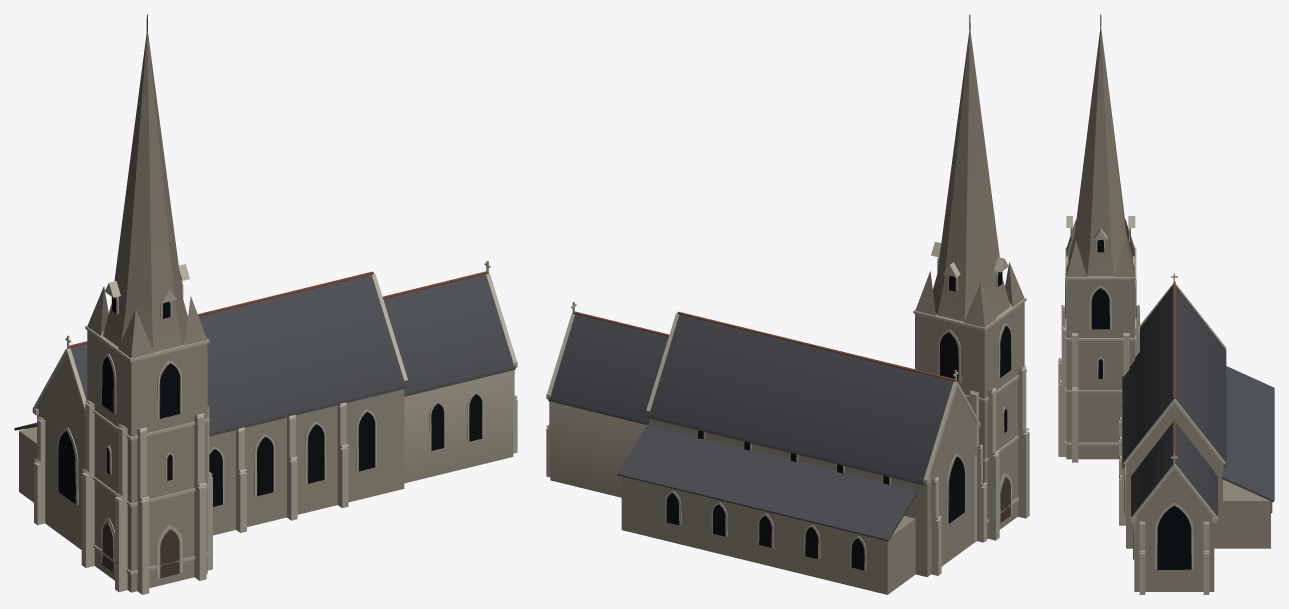
Rendered from context.church.victorian_spire.glb.
The picture shows the model from 3 angles, left to right: view 1: azimuth 30°, elevation 25°; view 2: azimuth 150°, elevation 25°; view 3: azimuth 270°, elevation 25°; orthographic projection. The views are drawn at different scales.
Parts seen in each view (by area): view 1: main__stone_987, main__clad_455, main__stone_ba9, main__clad_877, main__glass_dark, main__timber_543, main__clad_743, main__stone_887; view 2: main__clad_455, main__stone_987, main__clad_877, main__stone_ba9, main__glass_dark, main__clad_743; view 3: main__clad_455, main__stone_987, main__clad_877, main__stone_ba9, main__glass_dark, main__clad_743.
Boxes of the visible parts, left/top/right/bottom form: main__stone_987: left=19, top=330, right=513, bottom=592; main__clad_455: left=14, top=274, right=515, bottom=436; main__stone_ba9: left=32, top=260, right=517, bottom=594; main__clad_877: left=87, top=31, right=207, bottom=358; main__glass_dark: left=58, top=297, right=482, bottom=506; main__timber_543: left=102, top=522, right=179, bottom=578; main__clad_743: left=68, top=271, right=488, bottom=348; main__stone_887: left=58, top=297, right=475, bottom=572; main__clad_455: left=548, top=314, right=975, bottom=541; main__stone_987: left=550, top=302, right=1024, bottom=594; main__clad_877: left=915, top=30, right=1024, bottom=327; main__stone_ba9: left=546, top=241, right=1029, bottom=575; main__glass_dark: left=666, top=272, right=1011, bottom=570; main__clad_743: left=573, top=311, right=955, bottom=381; main__clad_455: left=1122, top=285, right=1274, bottom=517; main__stone_987: left=1066, top=256, right=1270, bottom=591; main__clad_877: left=1066, top=27, right=1134, bottom=276; main__stone_ba9: left=1058, top=216, right=1271, bottom=594; main__glass_dark: left=1065, top=228, right=1271, bottom=569; main__clad_743: left=1173, top=281, right=1175, bottom=463.
Size of the model in its own units: 34.8 by 41.6 by 18.91.
